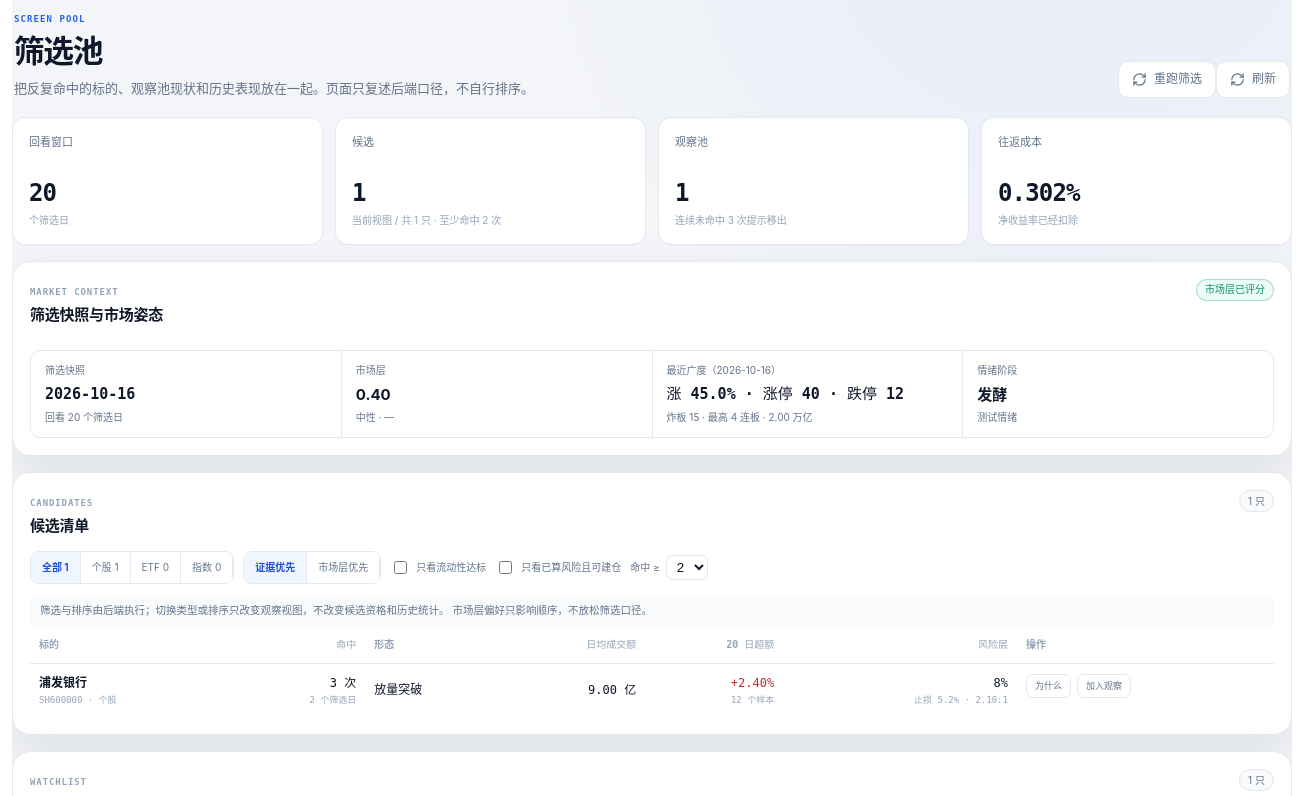
ScreenView › renders candidates, pool members and net outcomes
Step 1. Click the button "个股 1" → [106, 568], box [81, 552, 131, 583]
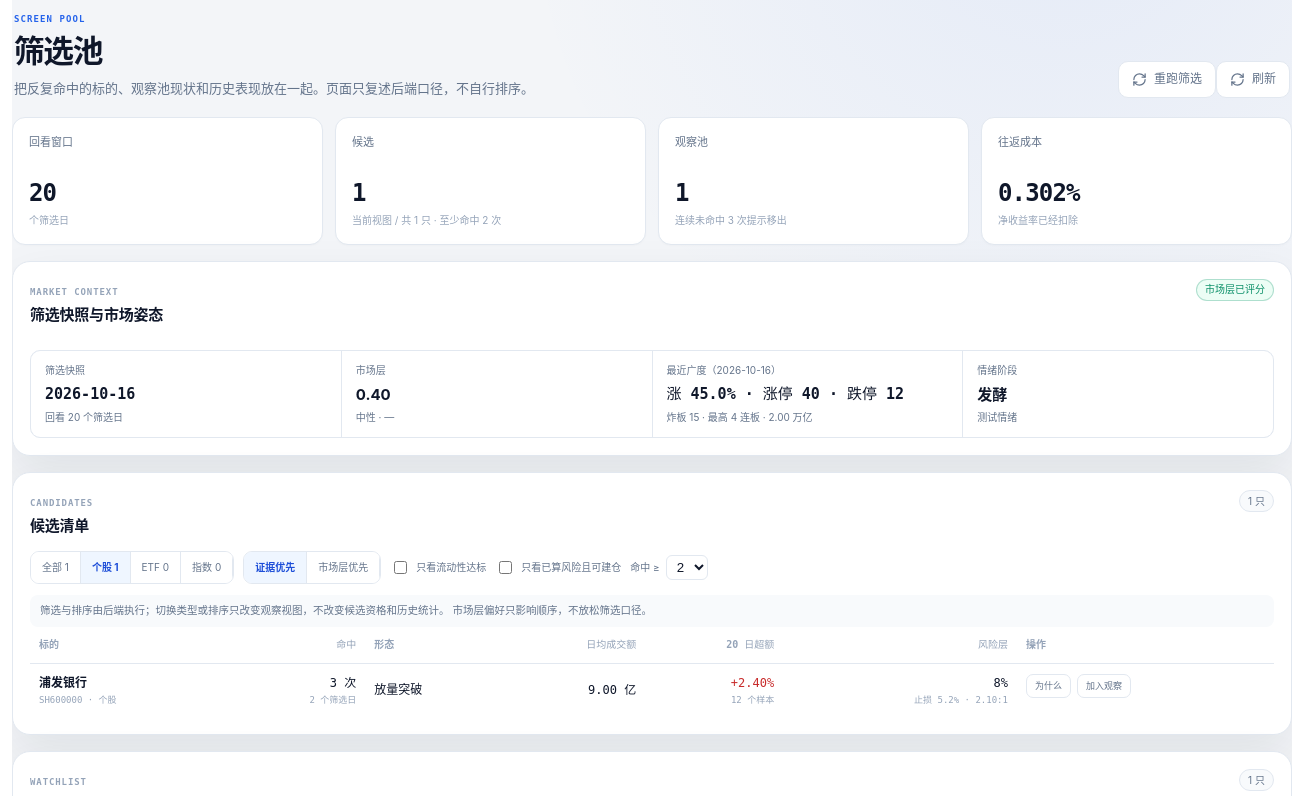
Step 2. Click the button "为什么" → [1048, 686], box [1026, 674, 1071, 698]
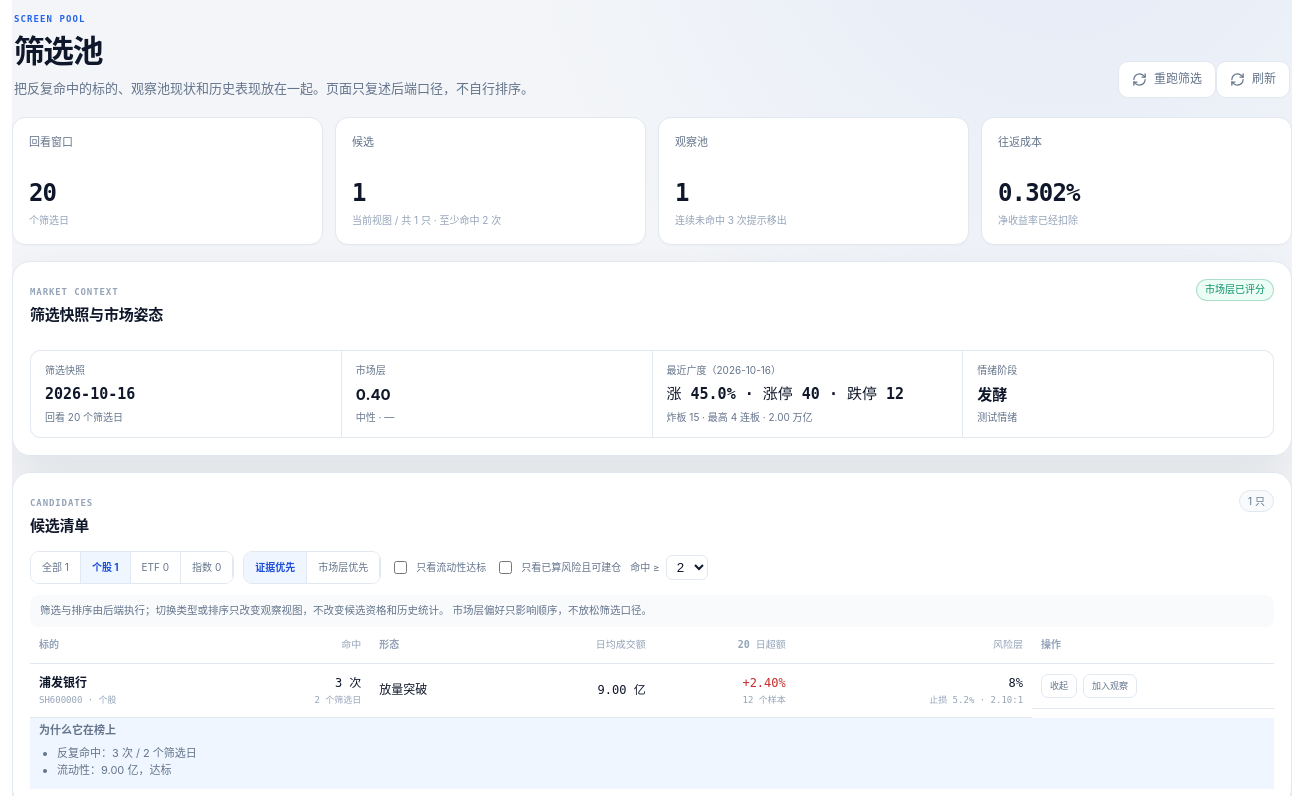
Check: the text "为什么它在榜上" is shown, box [39, 724, 116, 738]
Check: the text "反复命中：3 次" is shown, box [57, 746, 197, 760]
